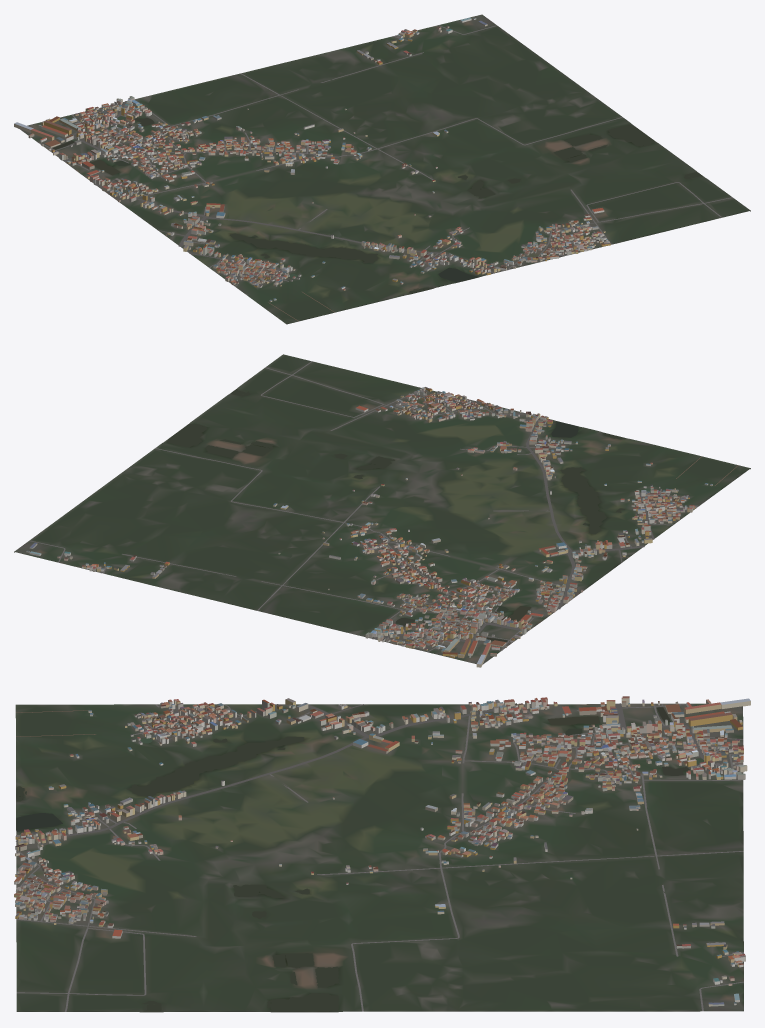
The picture shows the model from 3 angles, top to bottom: view 1: azimuth 30°, elevation 25°; view 2: azimuth 150°, elevation 25°; view 3: azimuth 270°, elevation 25°; orthographic projection. The views are drawn at different scales.
Parts seen in each view (by area): view 1: ground, buildings, water, roads; view 2: ground, buildings, roads, water; view 3: ground, buildings, water, roads.
Boxes of the visible parts, box(x1,y1,x2,y2) form: ground: box(18, 14, 750, 324); buildings: box(14, 17, 610, 301); water: box(53, 116, 703, 293); roads: box(38, 25, 732, 321); ground: box(14, 354, 750, 664); buildings: box(26, 387, 712, 667); roads: box(29, 361, 738, 652); water: box(167, 389, 650, 641); ground: box(15, 703, 743, 1012); buildings: box(14, 696, 750, 1006); water: box(16, 707, 704, 1011); roads: box(16, 703, 743, 1011).
Size of the model in its own units: 1410 by 25.89 by 1420.
